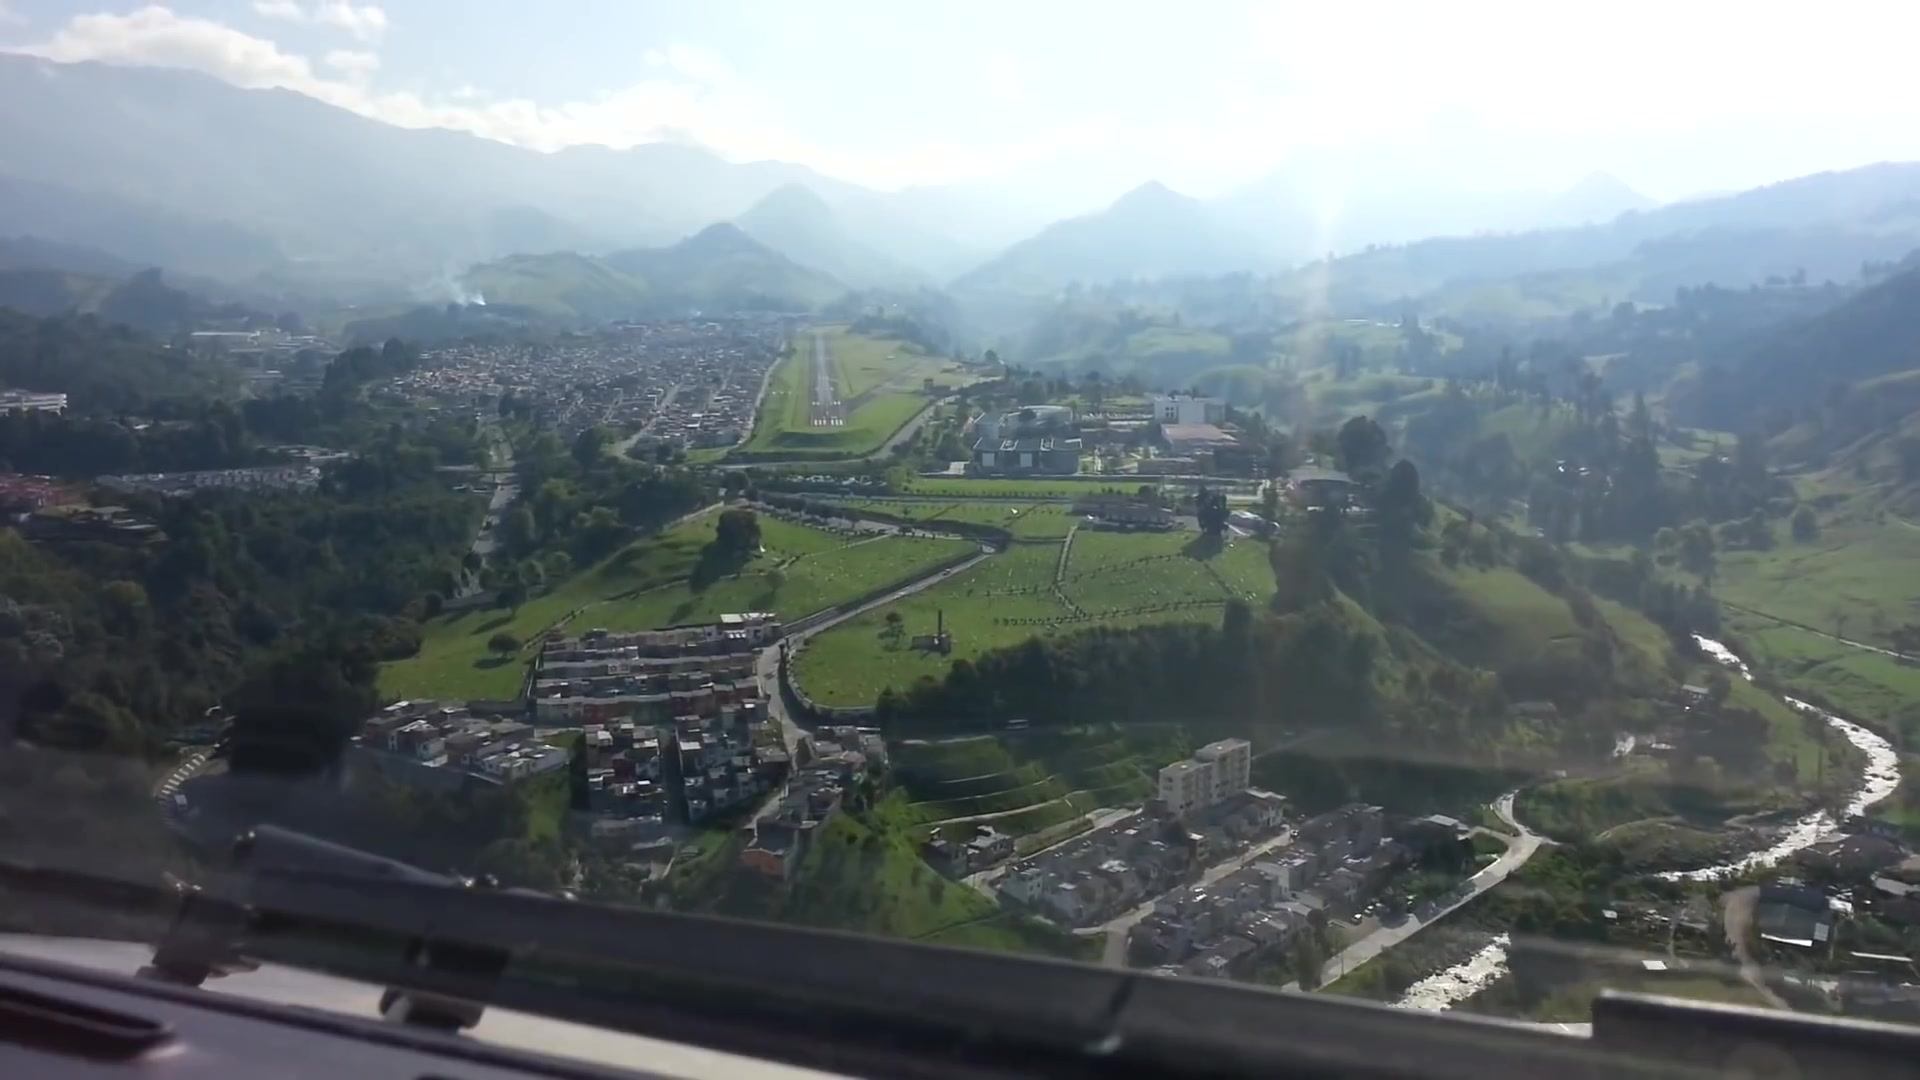entrance: (811, 418, 844, 427)
runway: (807, 331, 849, 429)
